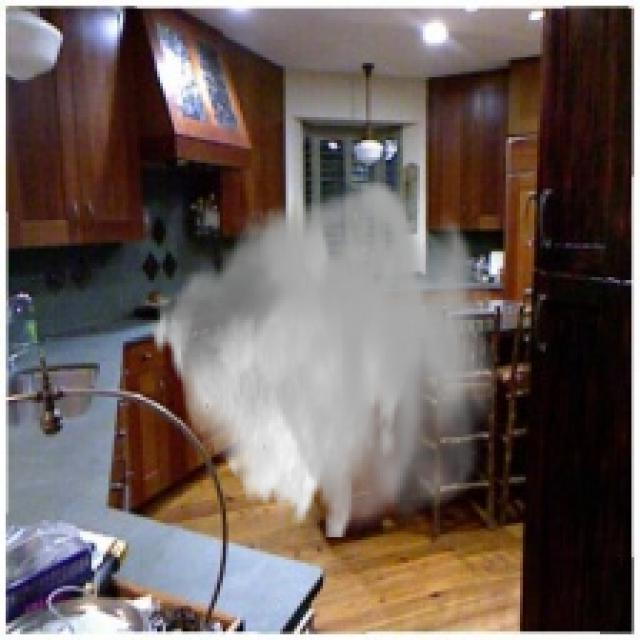smoke: (149, 174, 497, 537)
